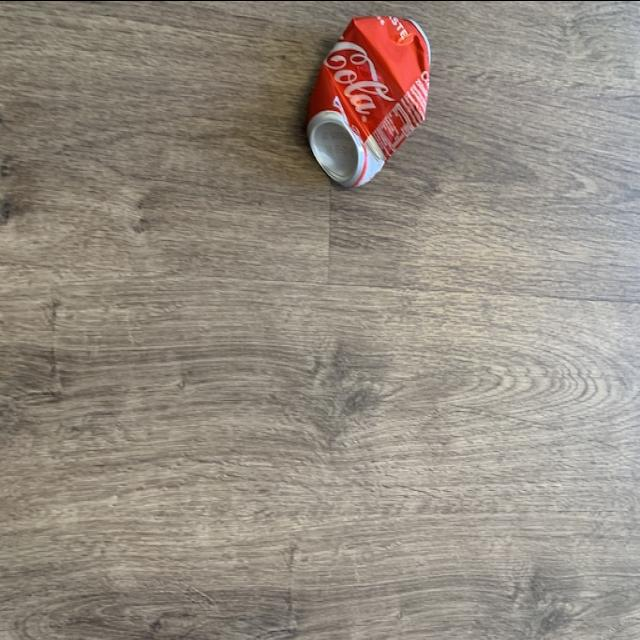Aluminum Can: (290, 3, 446, 208)
